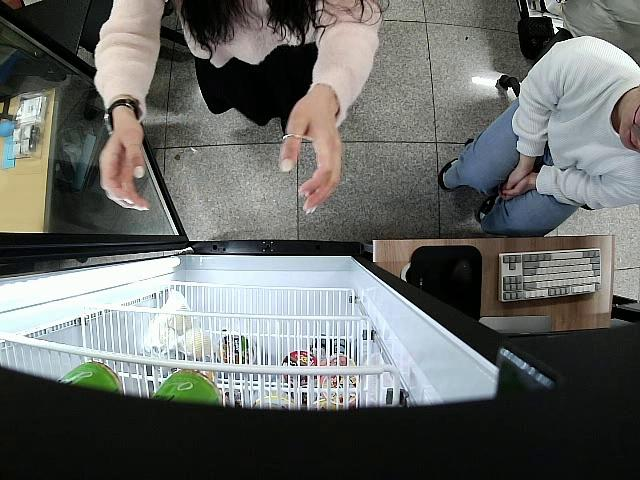00_hand: (278, 96, 346, 216), (97, 125, 156, 213)
